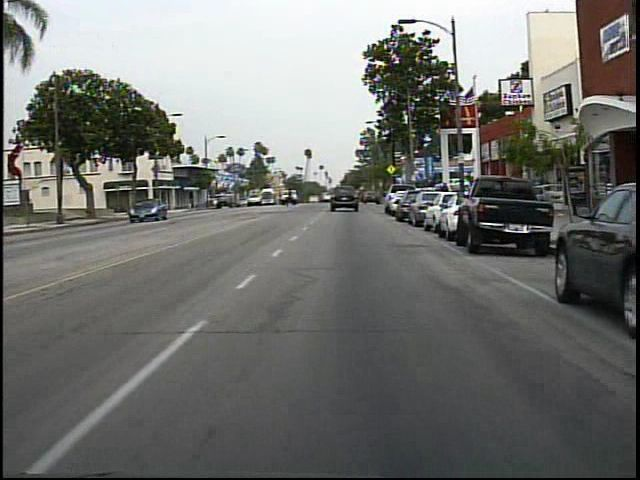person: (435, 179, 455, 217), (283, 185, 298, 213)
